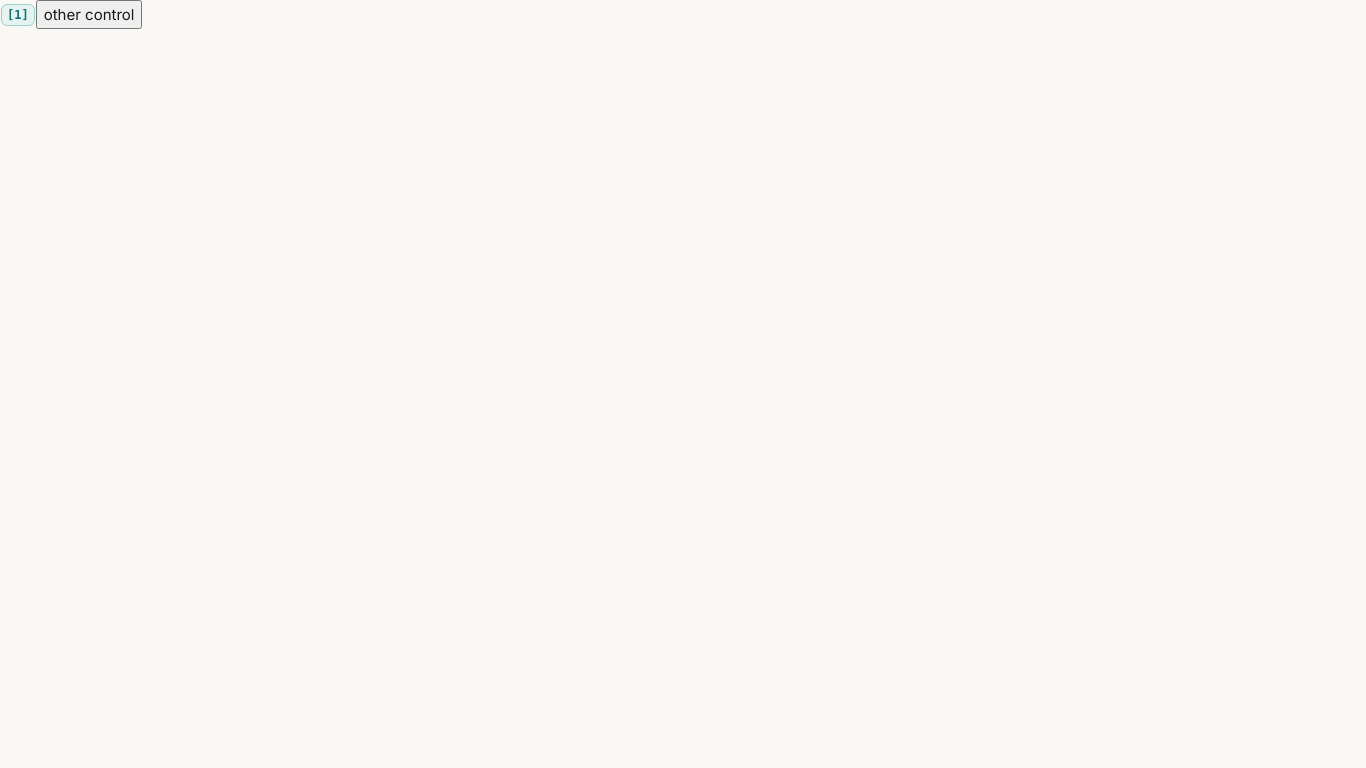
it: CitationChip -> SourceDrawer › moves focus into the dialog, traps Tab, closes on Escape and returns focus to the chip
Click the button named "Source 1" at x=18, y=15, box [1,4,35,26]
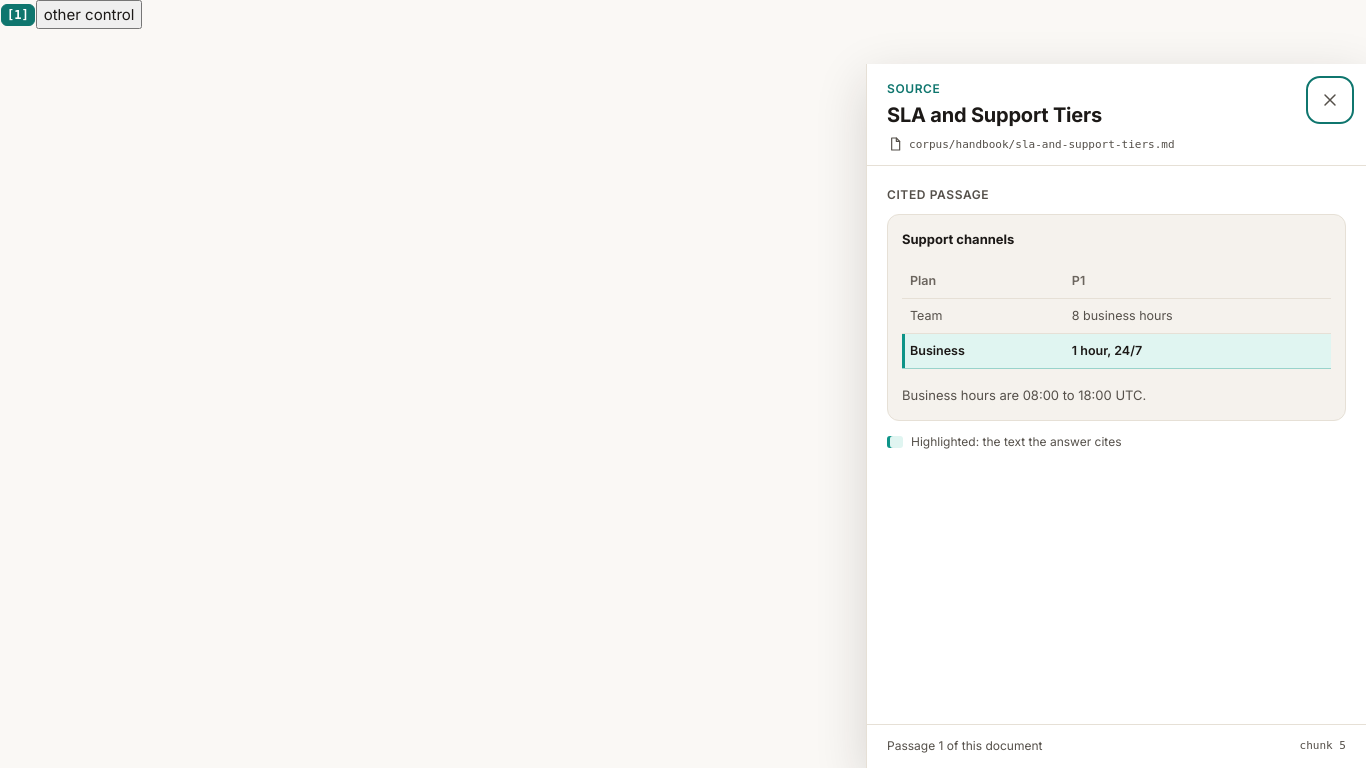
Press Tab
Press Shift+Tab
Press Escape
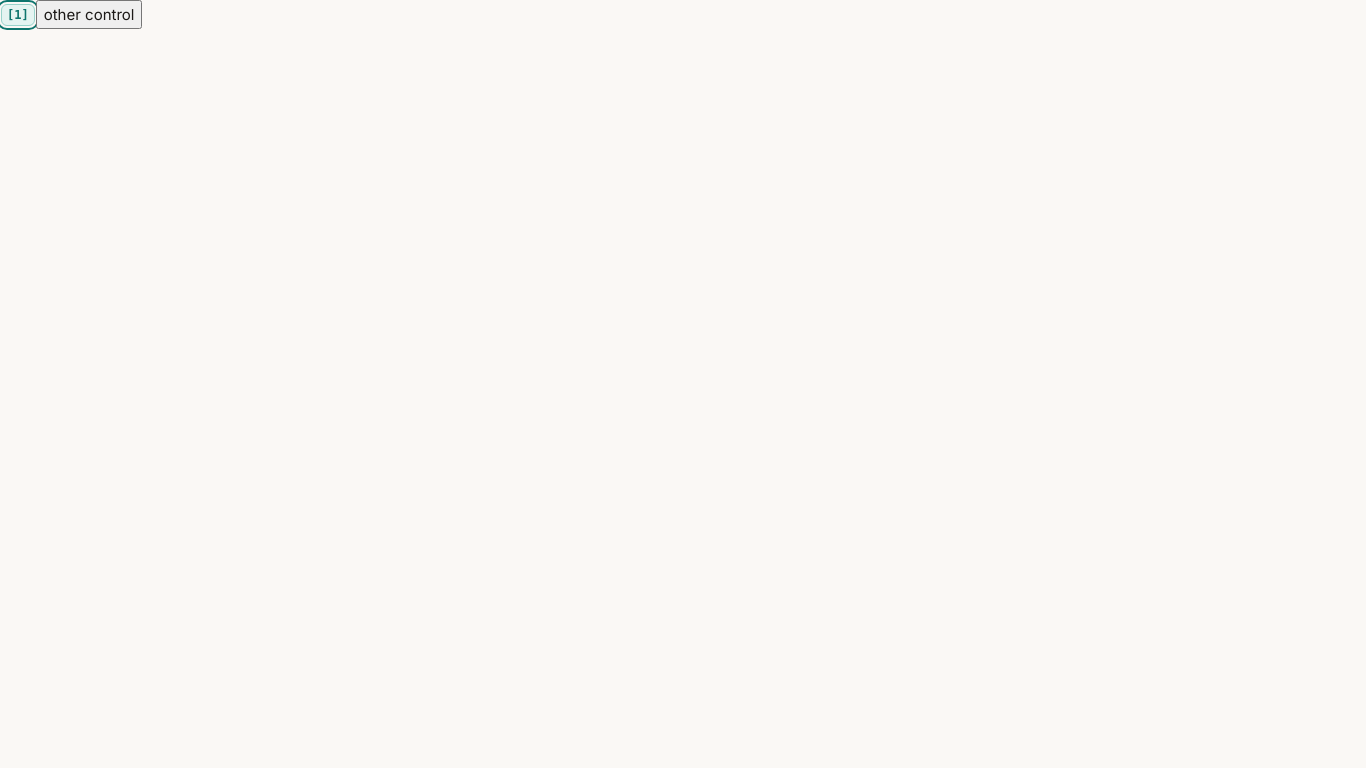
Check: the dialog is gone
